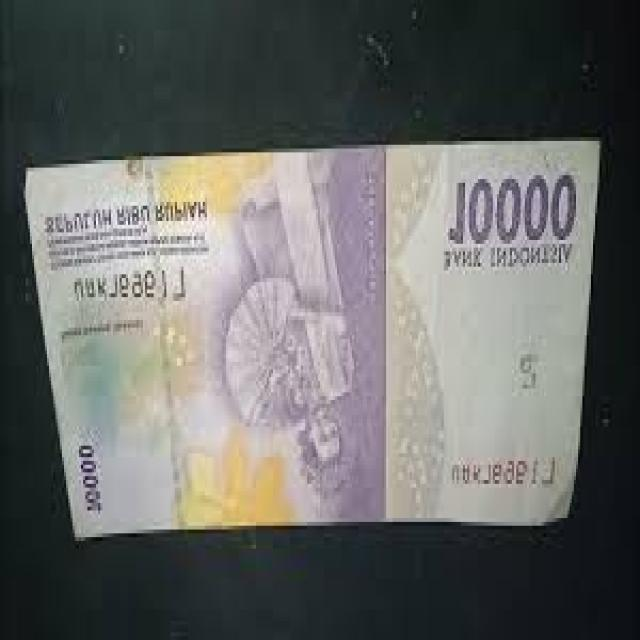sepuluh ribu rupiah: (23, 145, 597, 537)
